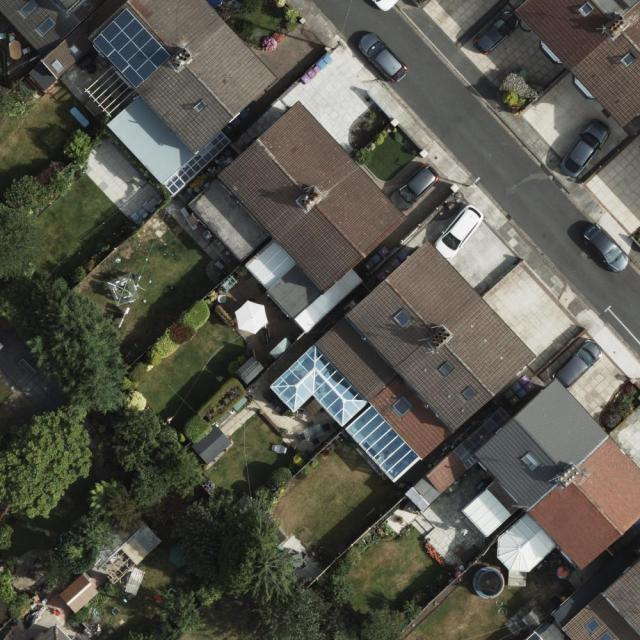roof: (269, 238, 535, 483), (186, 100, 409, 334), (0, 0, 280, 184), (463, 378, 640, 572), (516, 0, 640, 130), (562, 560, 640, 640), (428, 451, 468, 492)
skylight: (269, 344, 422, 484), (519, 448, 544, 473), (35, 15, 56, 37), (392, 308, 414, 329), (393, 395, 414, 417), (17, 0, 38, 18), (437, 358, 455, 379), (460, 382, 478, 403), (620, 50, 638, 71), (578, 0, 597, 18), (191, 97, 208, 115), (48, 55, 64, 73), (67, 44, 81, 56)
solar: (90, 8, 173, 88)
